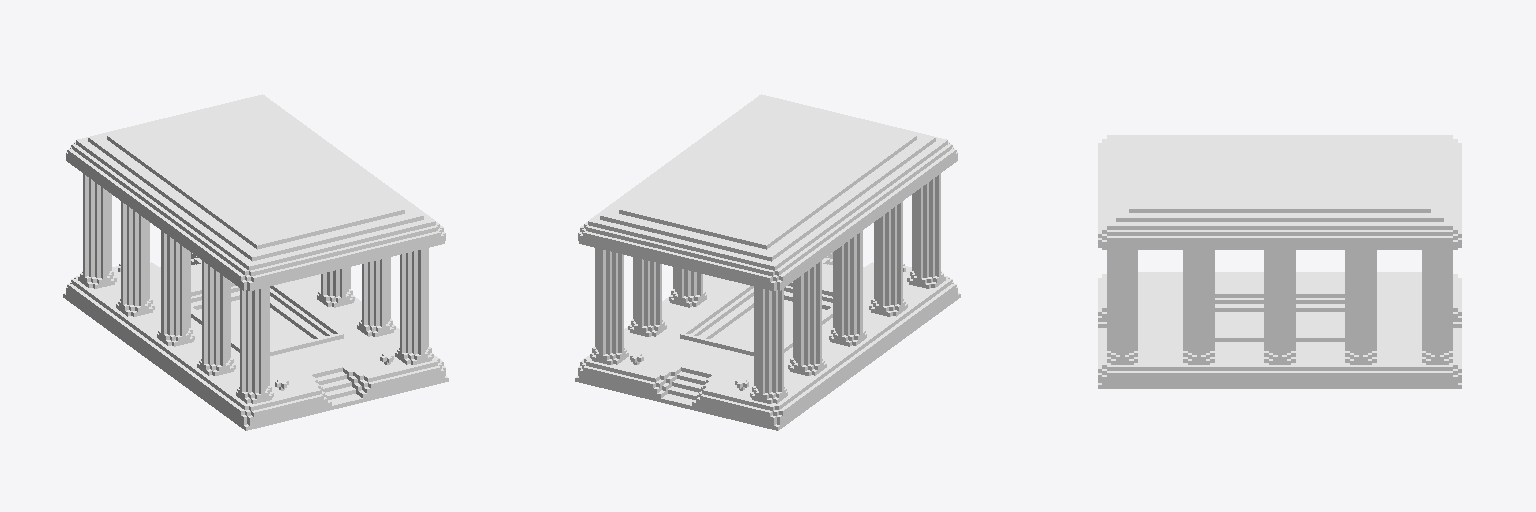
Rendered from temple.obj.
3 views of the same model, side by side, from view 1: azimuth 30°, elevation 25°; view 2: azimuth 150°, elevation 25°; view 3: azimuth 270°, elevation 25° (orthographic).
Parts seen in each view (by area): view 1: Temple; view 2: Temple; view 3: Temple.
Part boxes in pixels (x1,y1,x2,y2): Temple: (63,94,448,430); Temple: (575,94,960,430); Temple: (1098,135,1461,388).
Bounding box in the file's own units: 52 × 41 × 81.